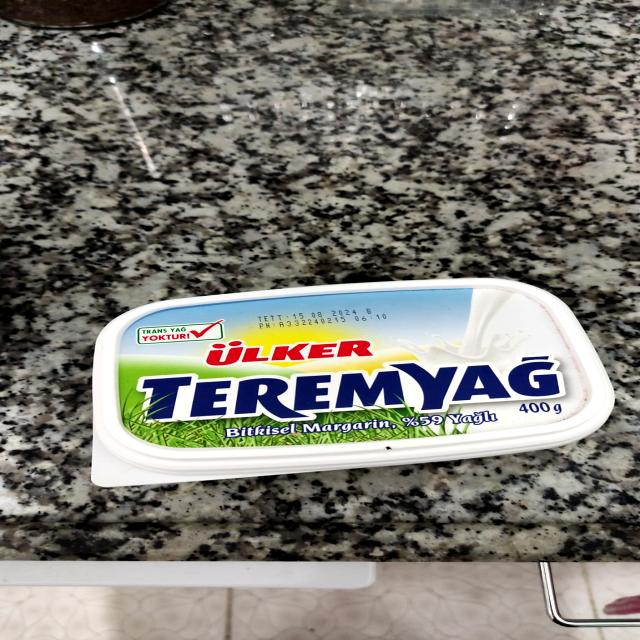margarine: (51, 262, 640, 497)
